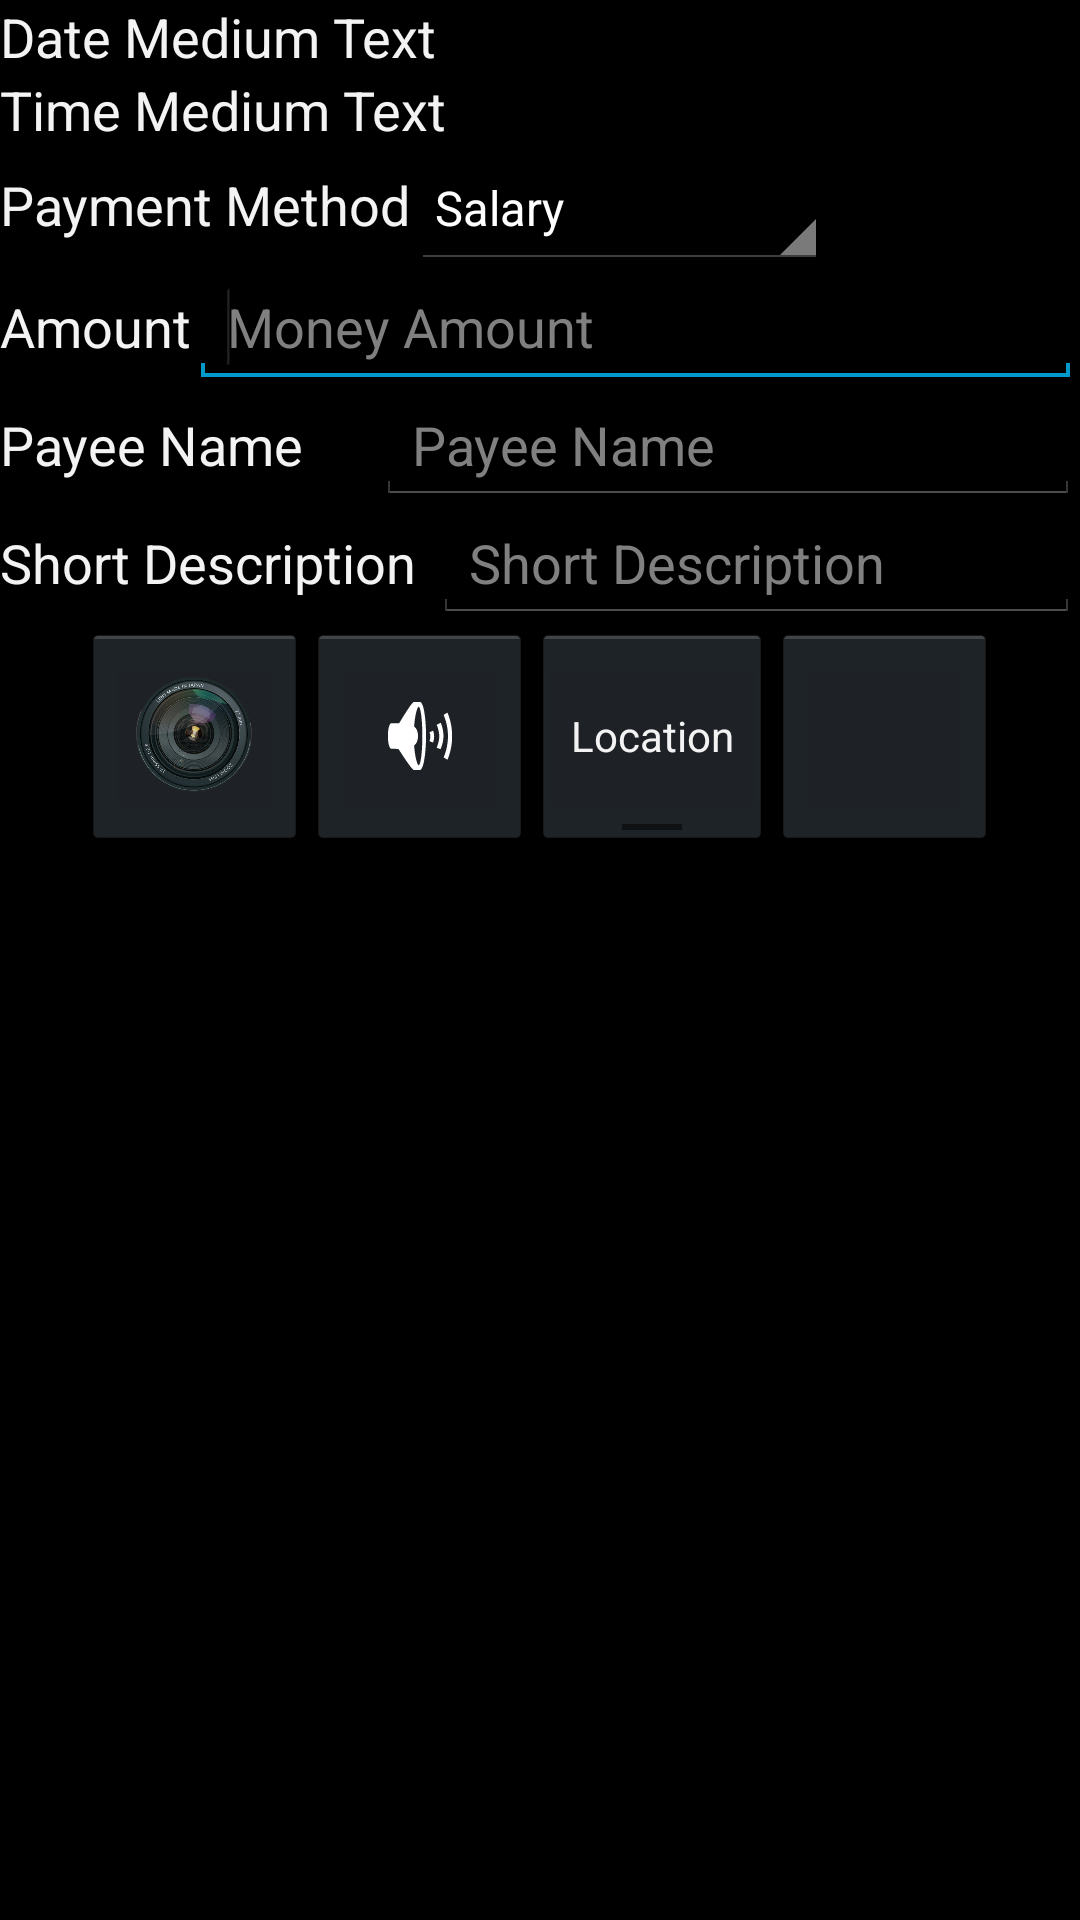

Named icons in this screenshot (1080w x 1920h) and their bounding boxes, (x1, y1, x2, y2):
camera: (94, 636, 295, 837)
lock silent mode off: (319, 636, 520, 837)
